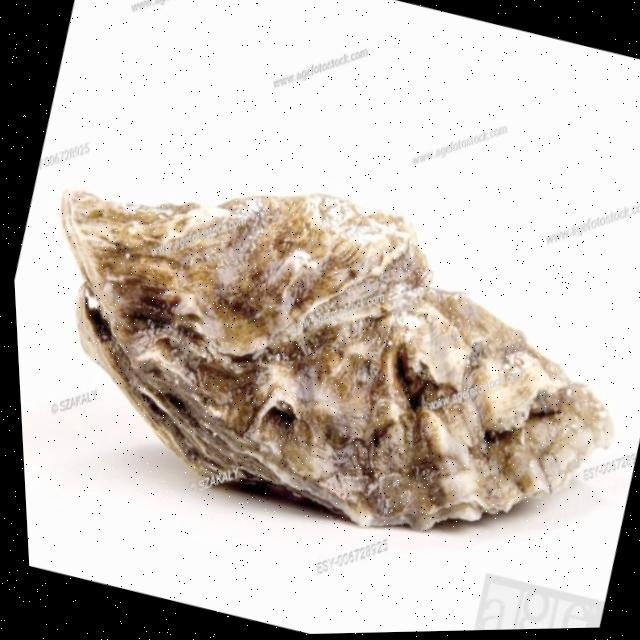Oyster-Closed: (62, 191, 613, 530)
